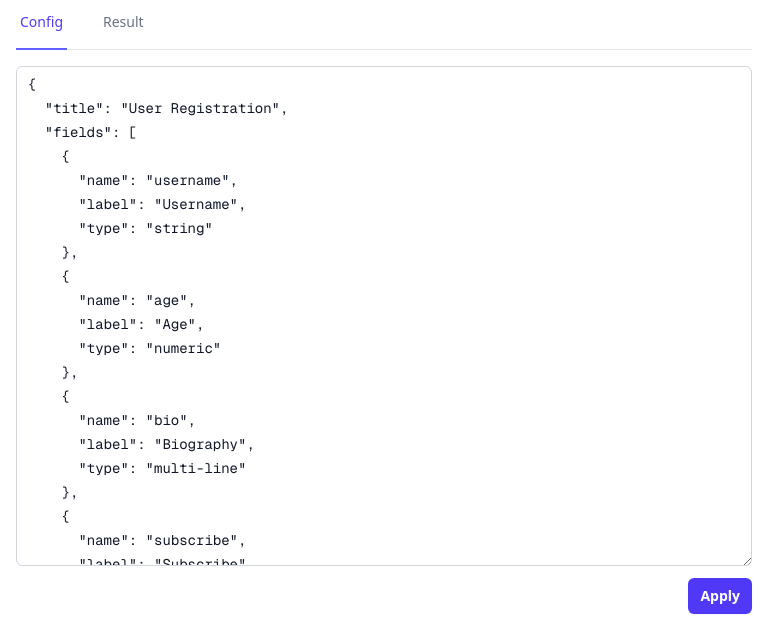
HomePage (page.tsx) › switches to Result and renders FormDisplay when config is valid
Click the button "Apply" at (720, 596), box [688,578,752,614]
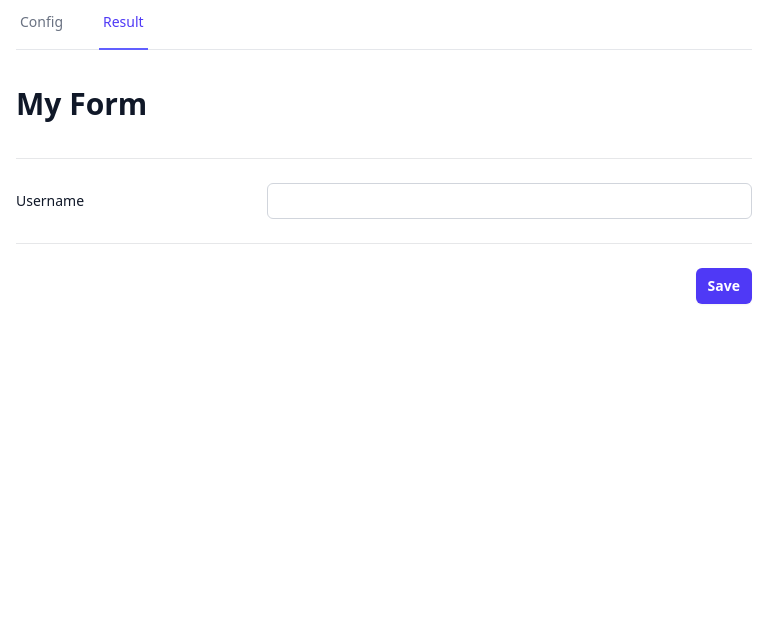
Expected: the heading "My Form" is shown, [16,83,147,124]
